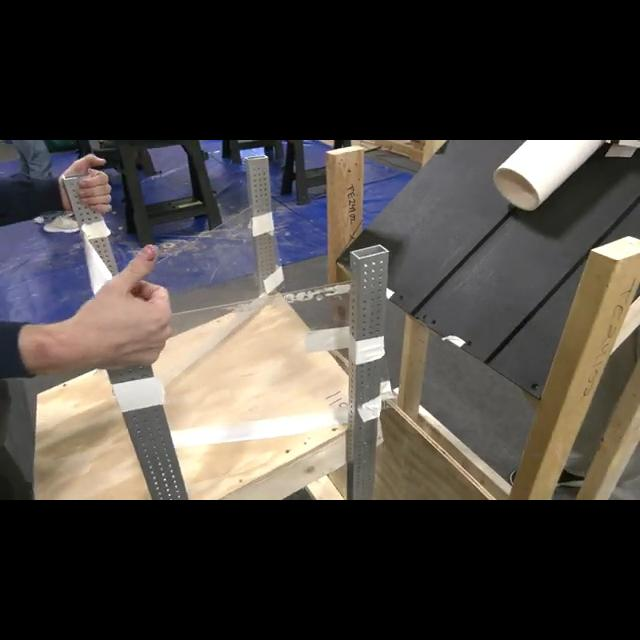CORAL: (490, 140, 606, 212)
